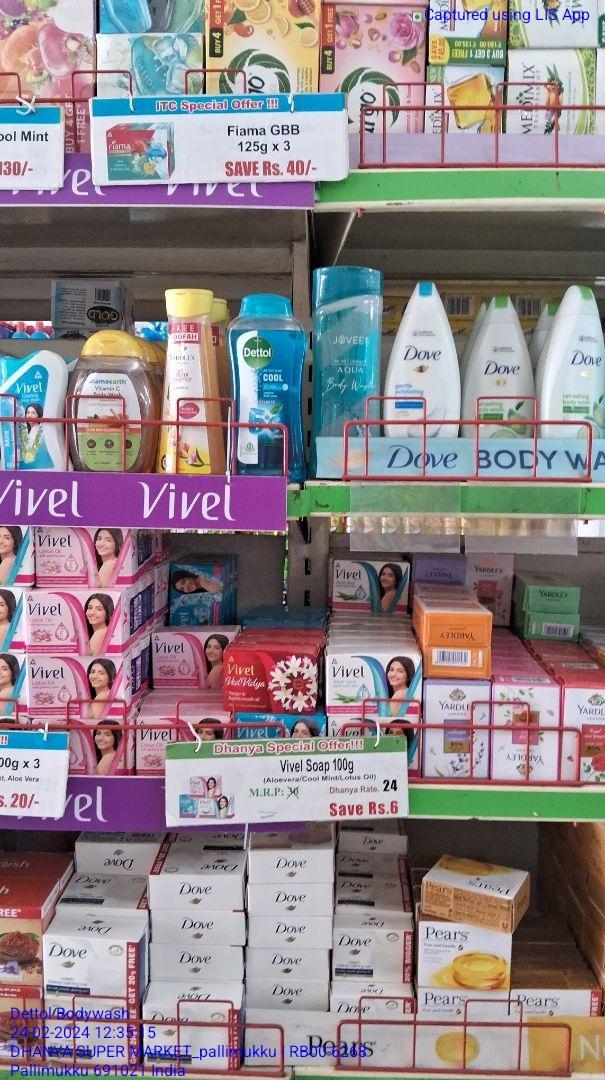Dettol_Bodywash_Cool: (225, 294, 307, 475)
Dove_Gentle_Exfoliating_Body_Wash_250ML: (385, 283, 464, 440)
Dove_Refreshing_Body_Wash_250ML: (470, 292, 537, 440), (546, 285, 605, 436)
